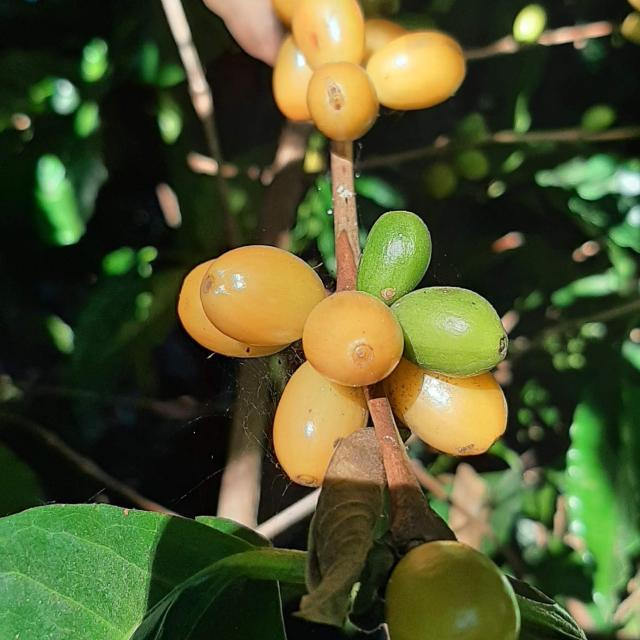green: (391, 287, 509, 378), (357, 211, 432, 305)
red: (200, 245, 325, 346), (273, 362, 369, 488), (384, 359, 508, 456), (177, 259, 287, 358), (302, 290, 404, 387), (366, 30, 466, 109), (307, 62, 379, 141), (292, 0, 364, 68), (273, 34, 313, 121)
yellow: (386, 542, 522, 640)
